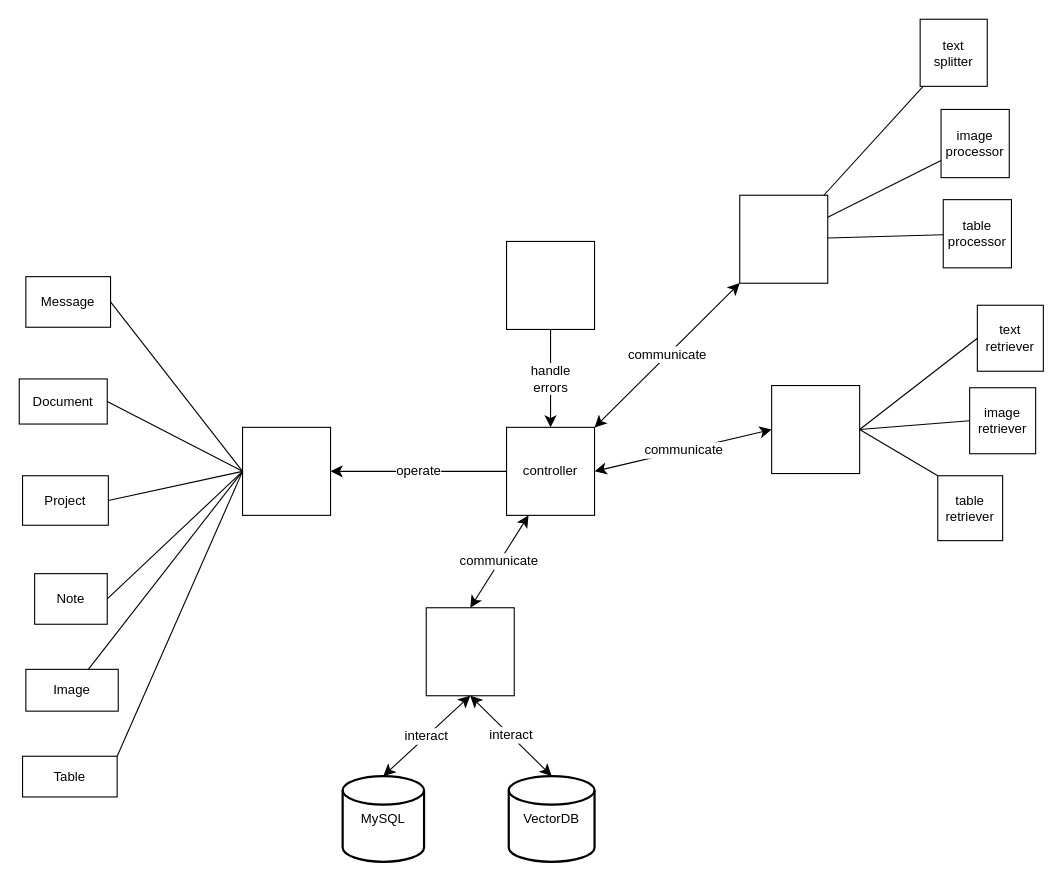
Some shapes in this 1063 by 882 pixel diagram are drawn without their labels. The shapes that lost their labels are listed below. From the top down, each one's centre as x and y in pixels, then its label:
At point (783, 238): "processor".
At point (550, 284): "exceptions".
At point (815, 429): "retriever".
At point (286, 470): "kernel".
At point (469, 651): "repository".
